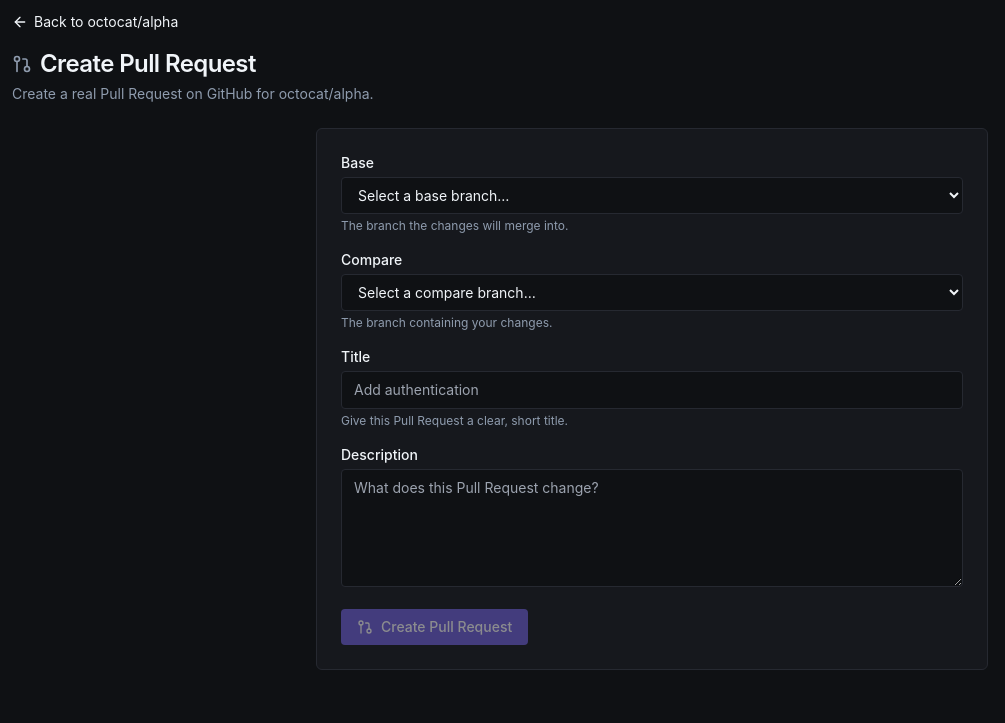
Test: CreatePullRequestPage › shows an error when GitHub rejects the PR
Select "feature/auth" in the dropdown labelled "Compare" at (652, 292), box [341,274,963,311]
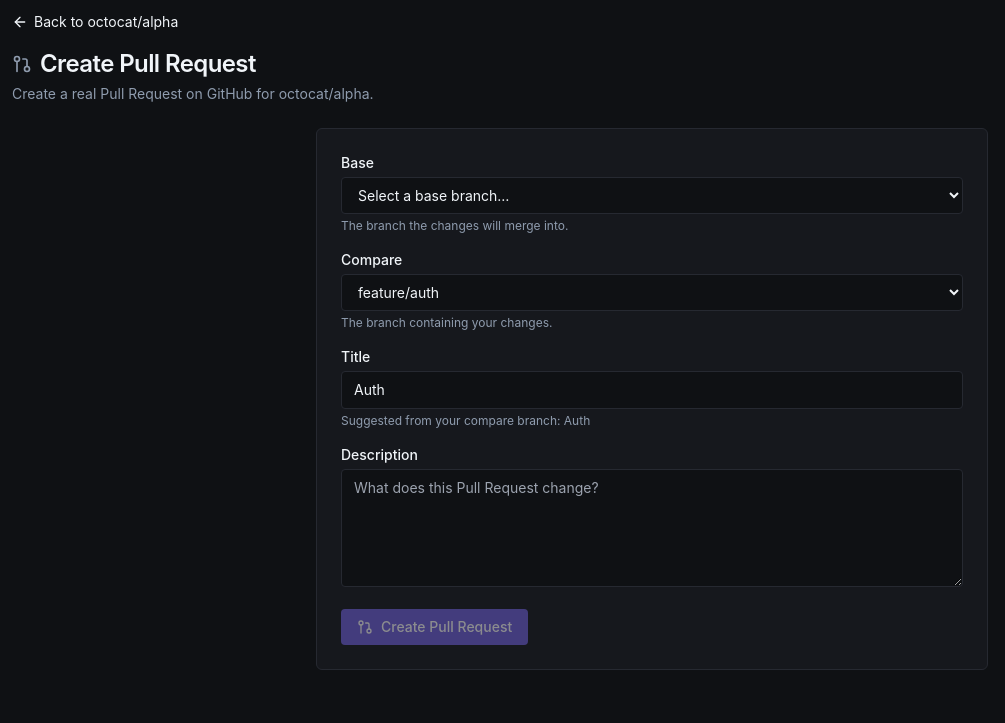
Select "main" in the dropdown labelled "Base" at (652, 196), box [341,177,963,214]
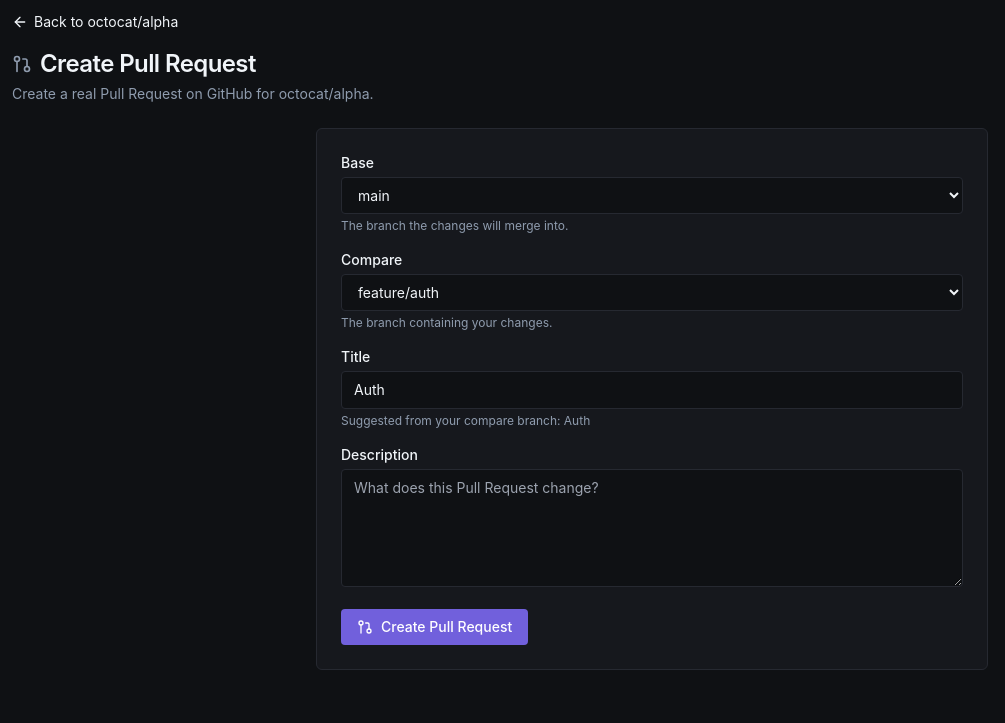
Type "Add authentication" into the field labelled "Title" at (652, 390), box [341,371,963,409]
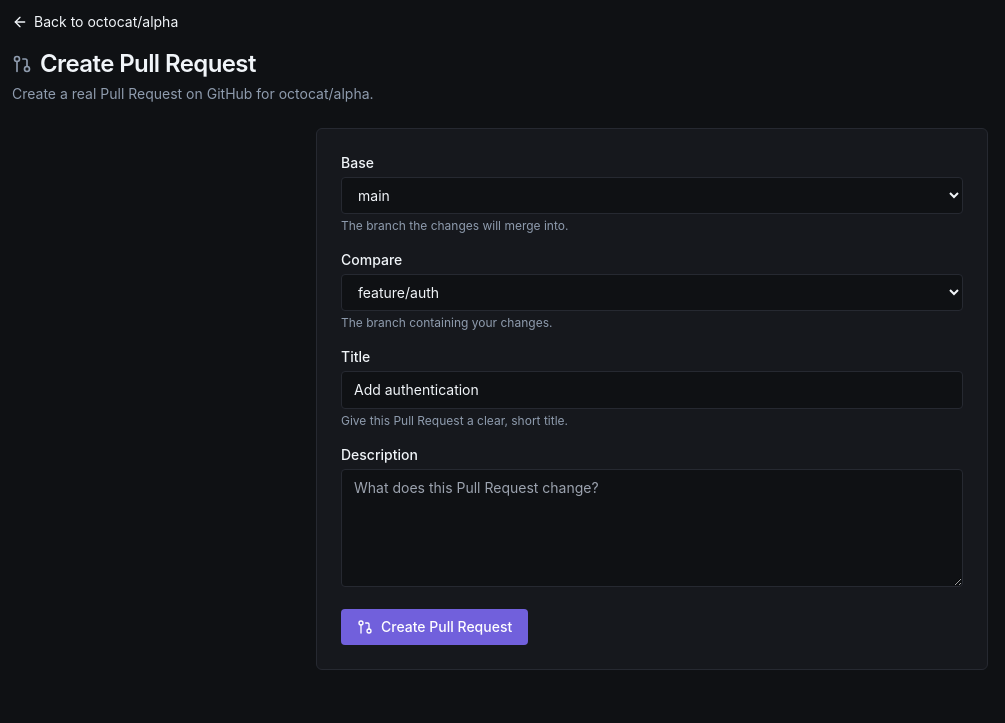
Click the button "Create Pull Request" at (435, 627), box [341,609,528,645]
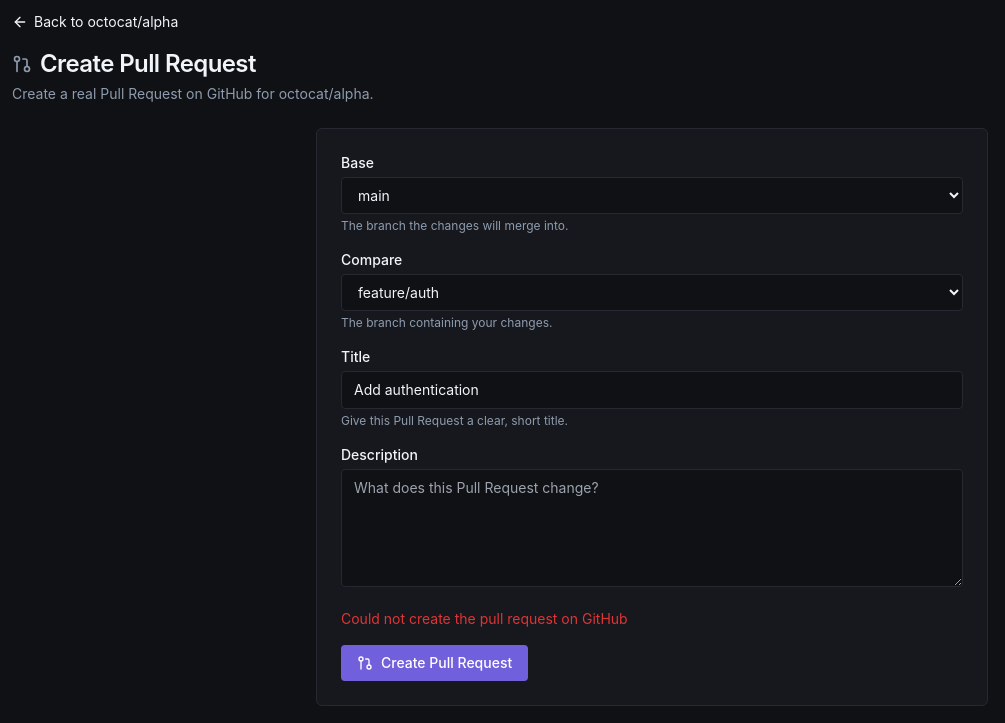
expect the text "Could not create the pull request on GitHub" is shown: met, box [341,610,628,627]
